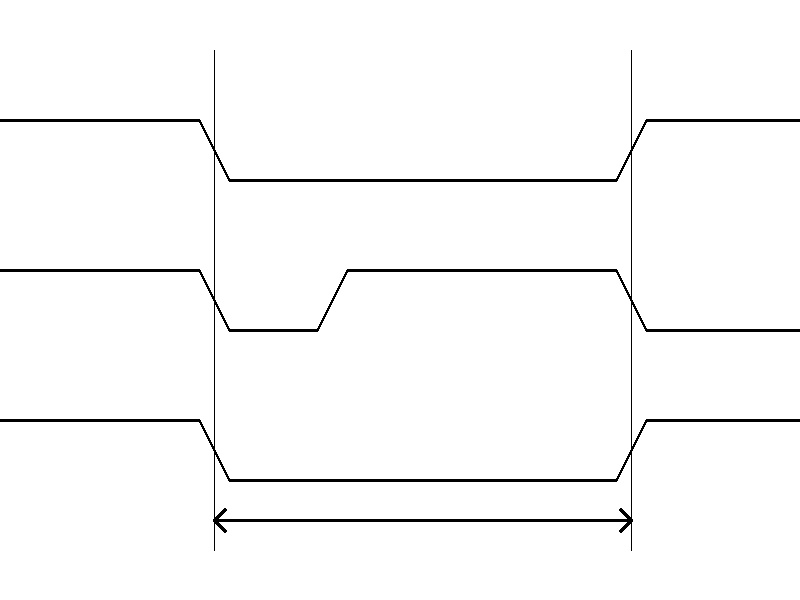double_arrow: (214, 505, 631, 535)
